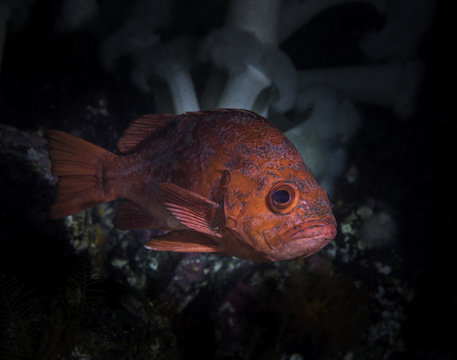Rock Fish: (25, 87, 363, 282)
